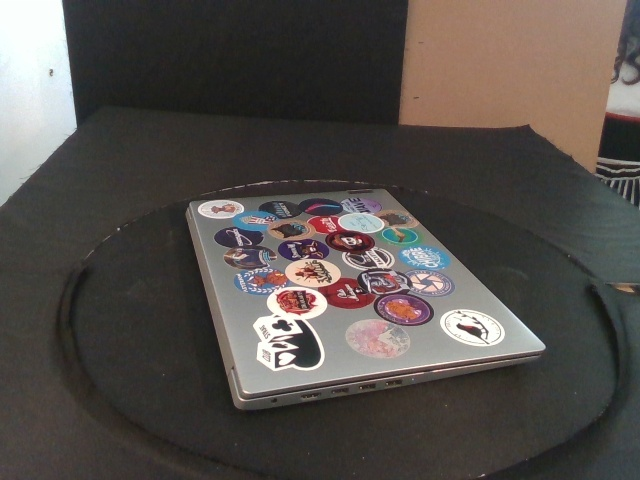laptop: (183, 188, 548, 411)
